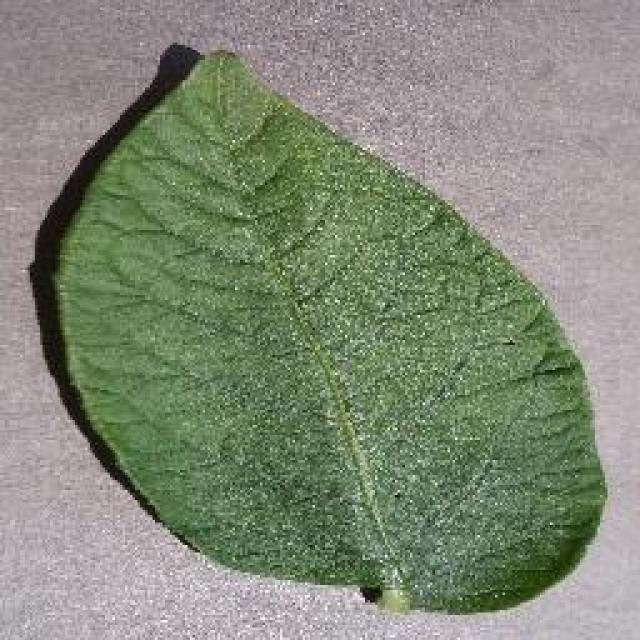healthy: (30, 40, 610, 620)
